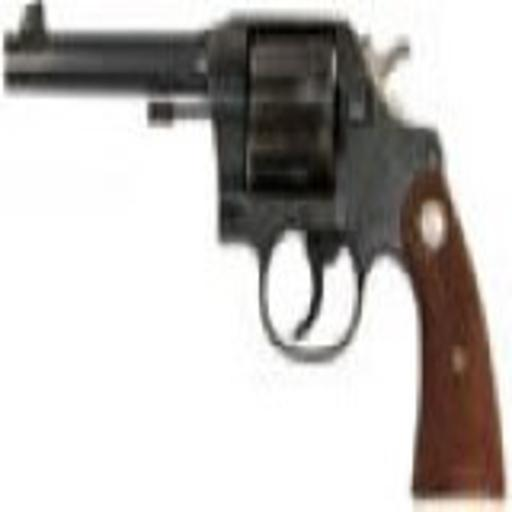Handgun: (2, 7, 504, 498)
